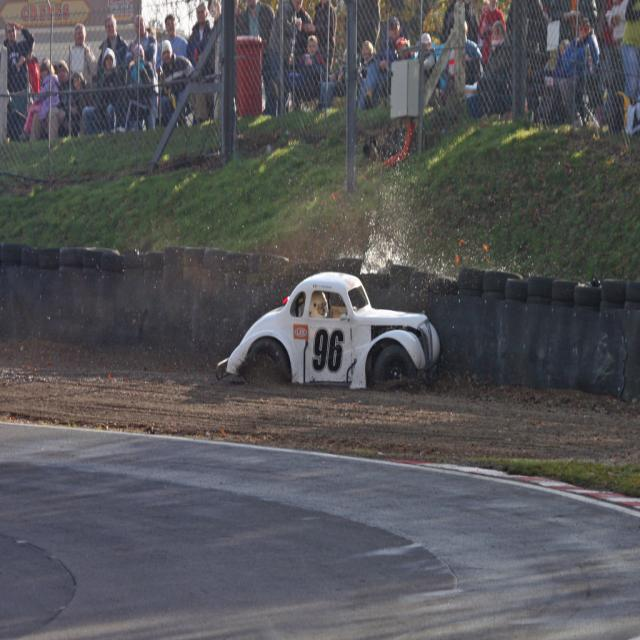other: (216, 271, 440, 389)
